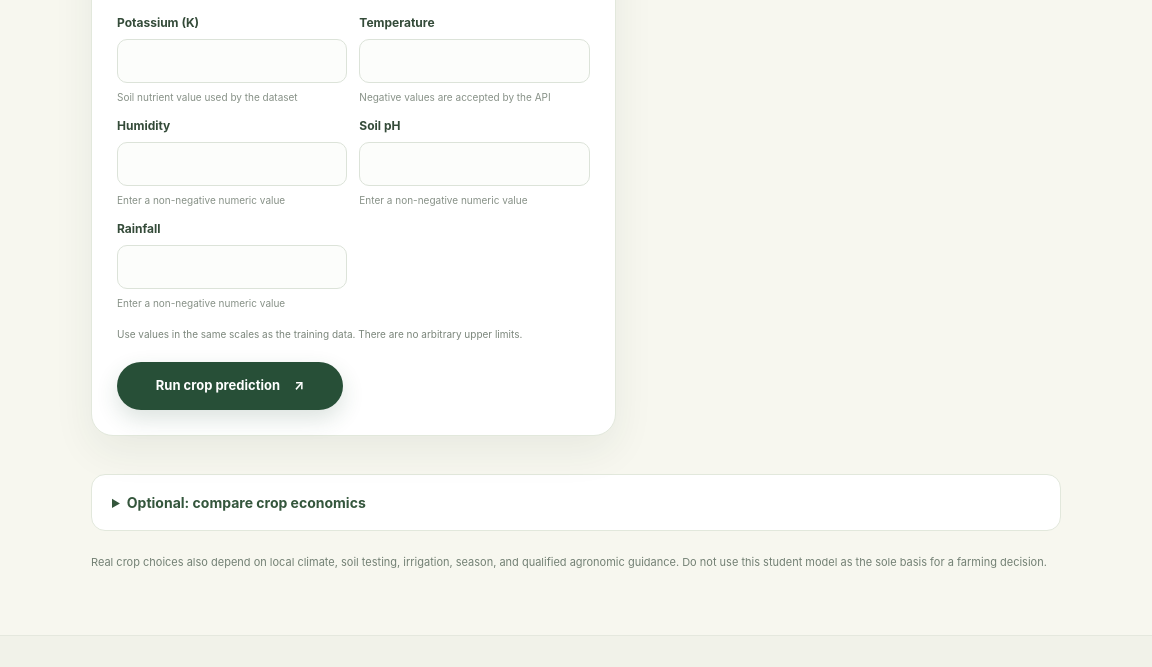
Crop Recommendation website › keeps profitability optional and calculates only after explicit assumptions
(page scrolled)
Click the heading "Optional: compare crop economics": (246, 503) 127,494 -> 366,511
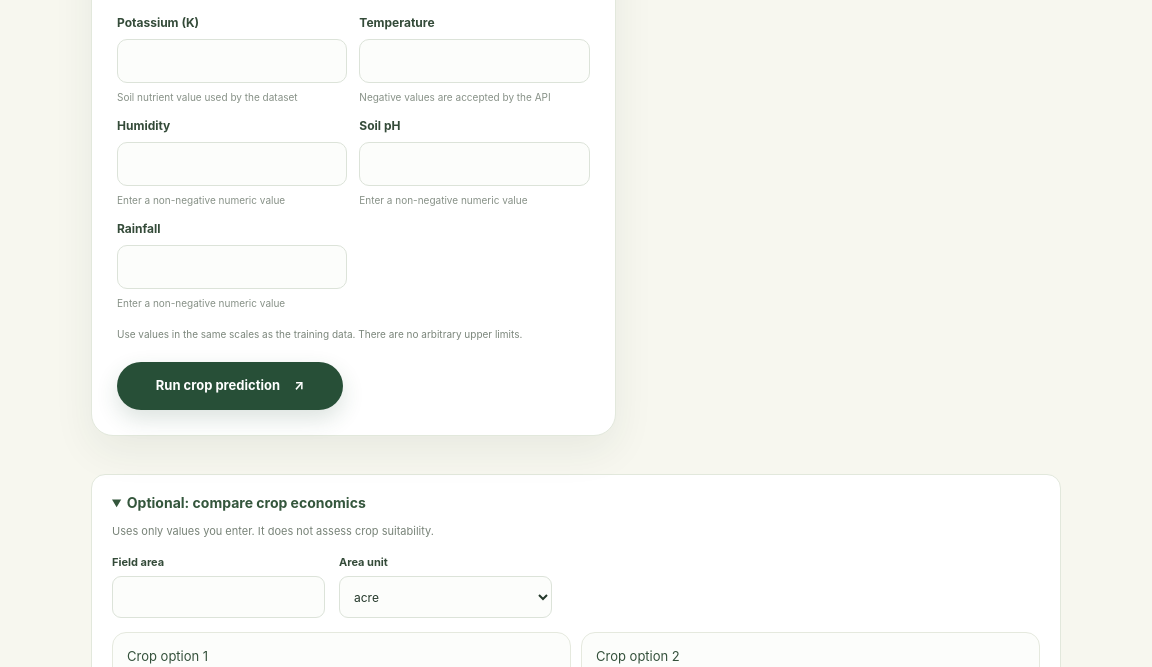
In the number field labelled "Field area": (218, 597) 112,576 -> 325,618, type "2"
(page scrolled)
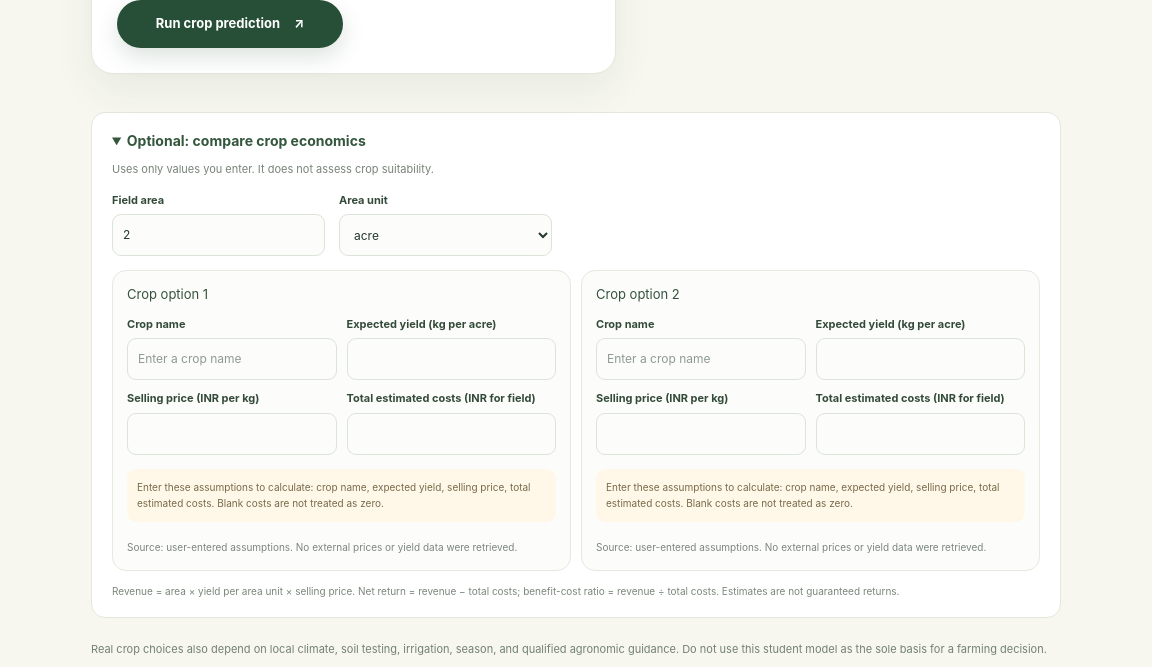
In the field labelled "Crop name" below "Crop option 1": (232, 359) 127,338 -> 336,380, type "Wheat"
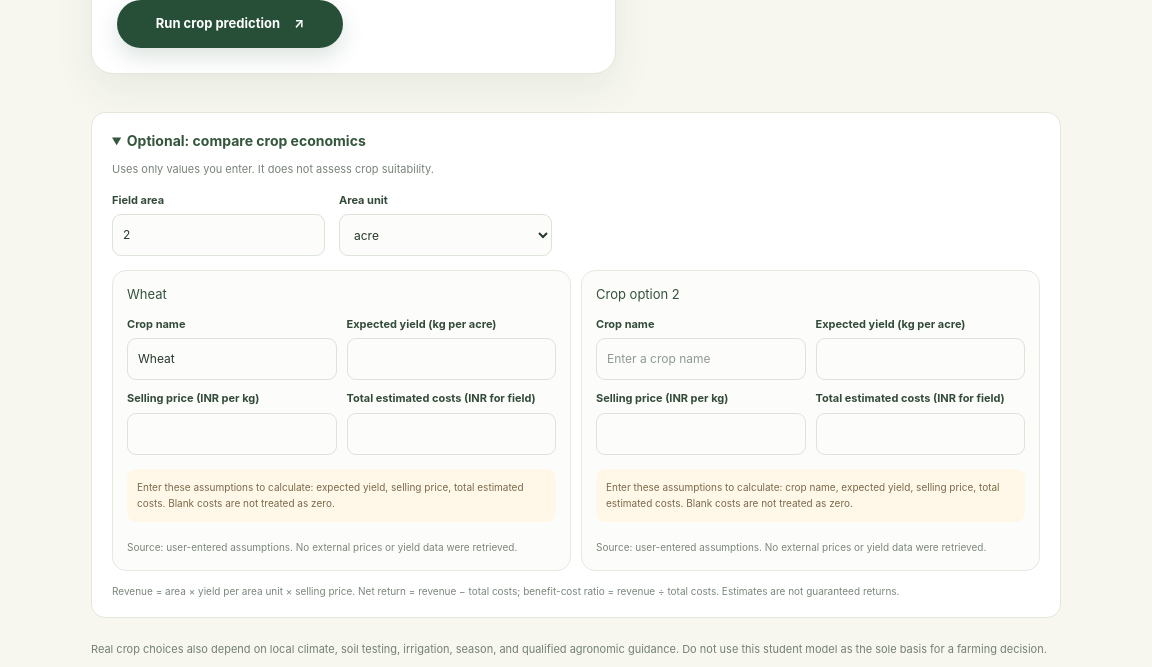
In the number field labelled "Expected yield (kg per acre)" below "Wheat": (451, 359) 346,338 -> 556,380, type "1000"
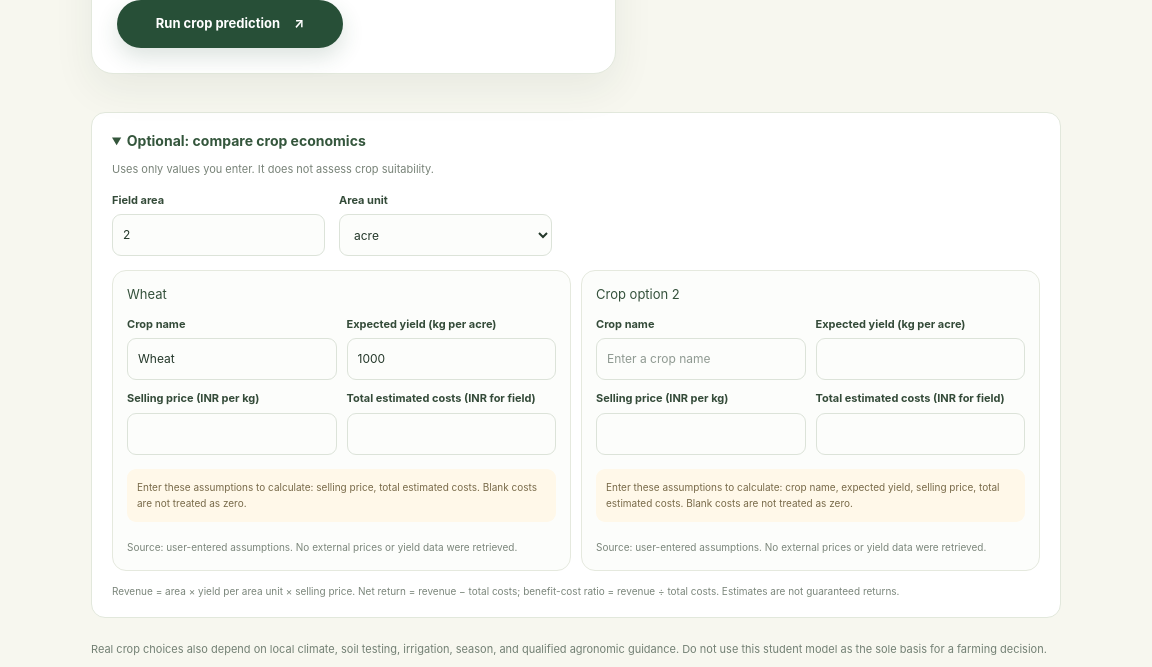
In the number field labelled "Selling price (INR per kg)" below "Wheat": (232, 434) 127,413 -> 336,455, type "20"
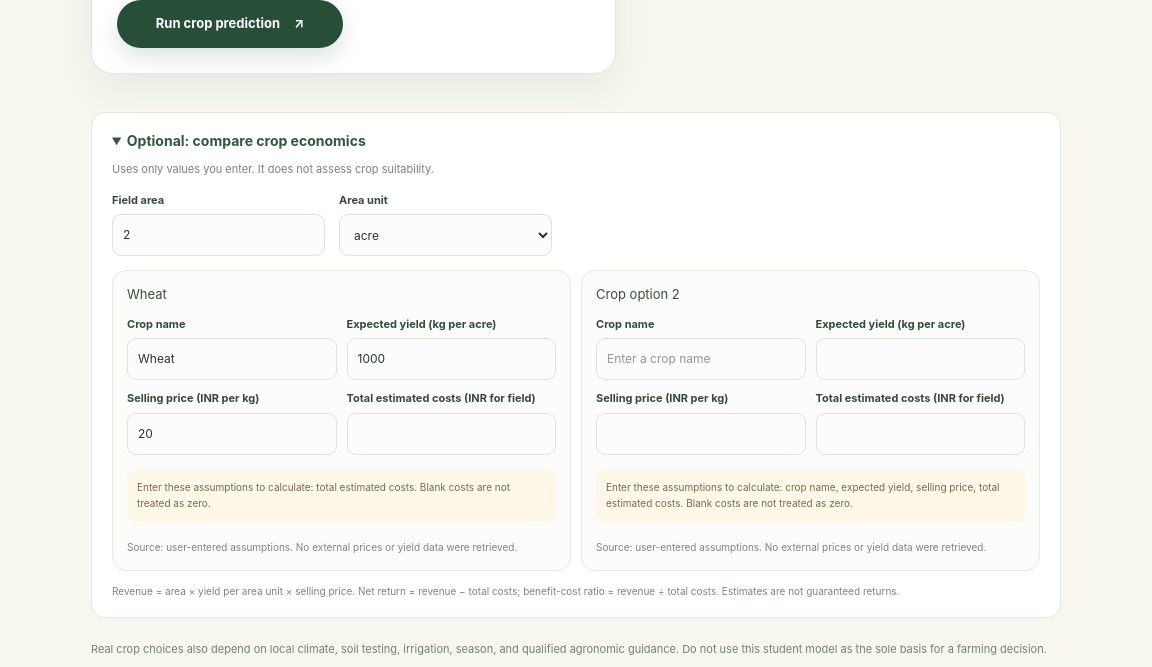
In the number field labelled "Total estimated costs (INR for field)" below "Wheat": (451, 434) 346,413 -> 556,455, type "10000"
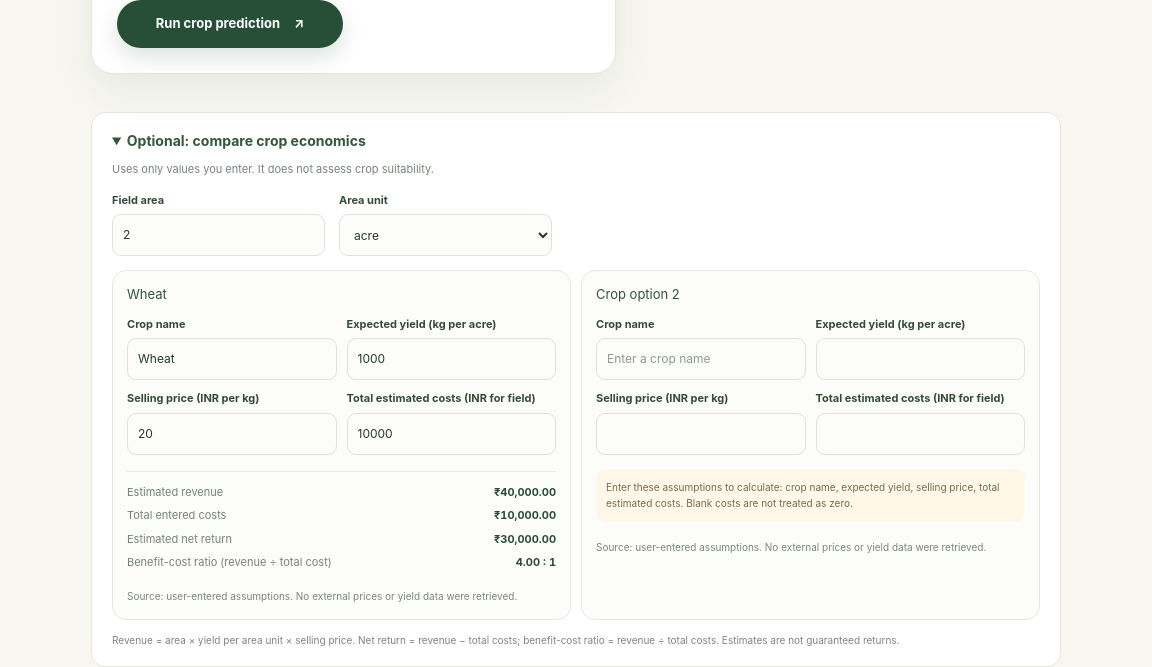
expect the text "Estimated revenue" is shown: met, box 127,484 -> 223,500
expect the text "₹40,000.00" is shown: met, box 494,484 -> 556,500
expect the text "₹30,000.00" is shown: met, box 494,531 -> 556,547
